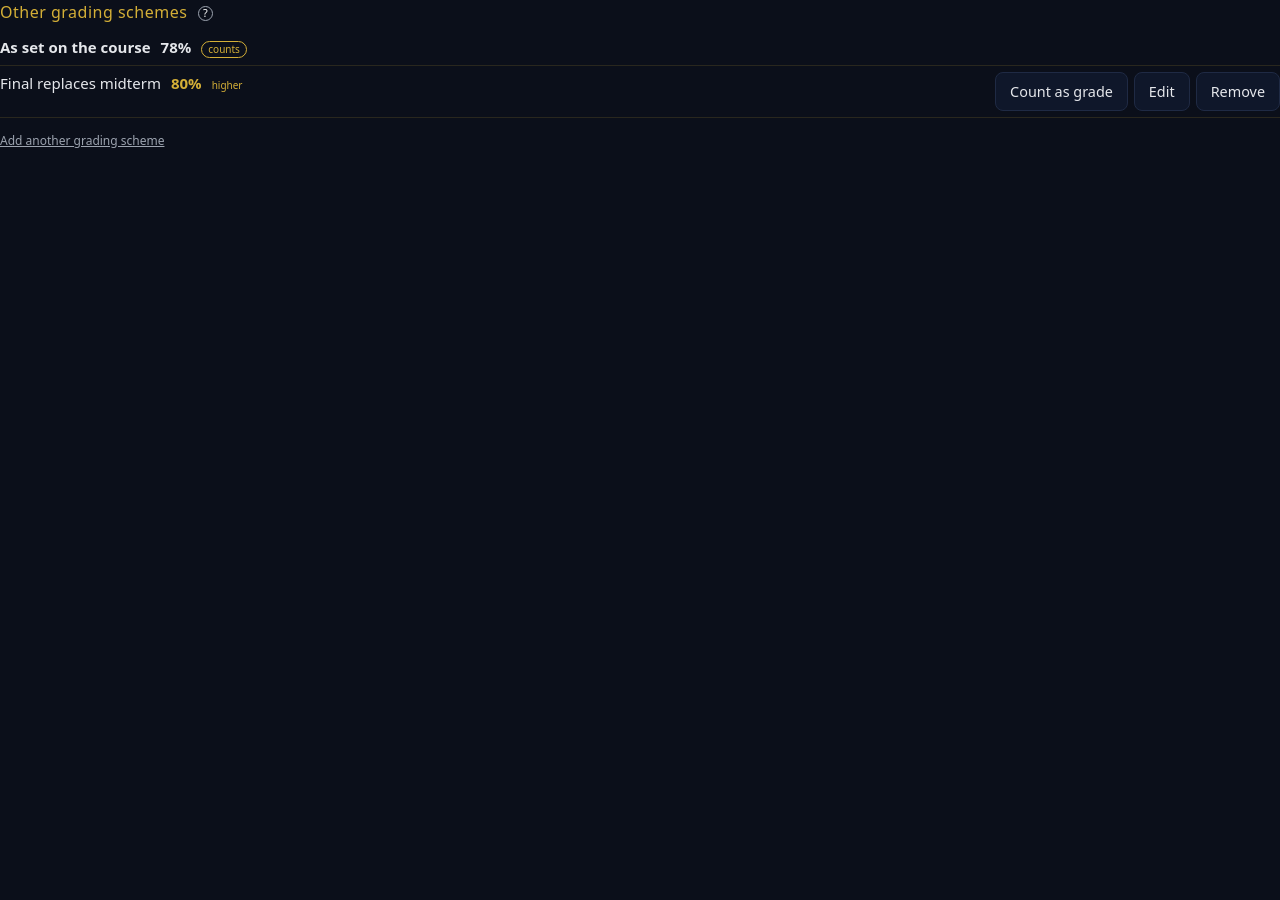
it: GradingSchemes › says why a scheme couldn't be saved
Step 1. Click the button "Add another grading scheme" → [82, 141], box [0,132,164,150]
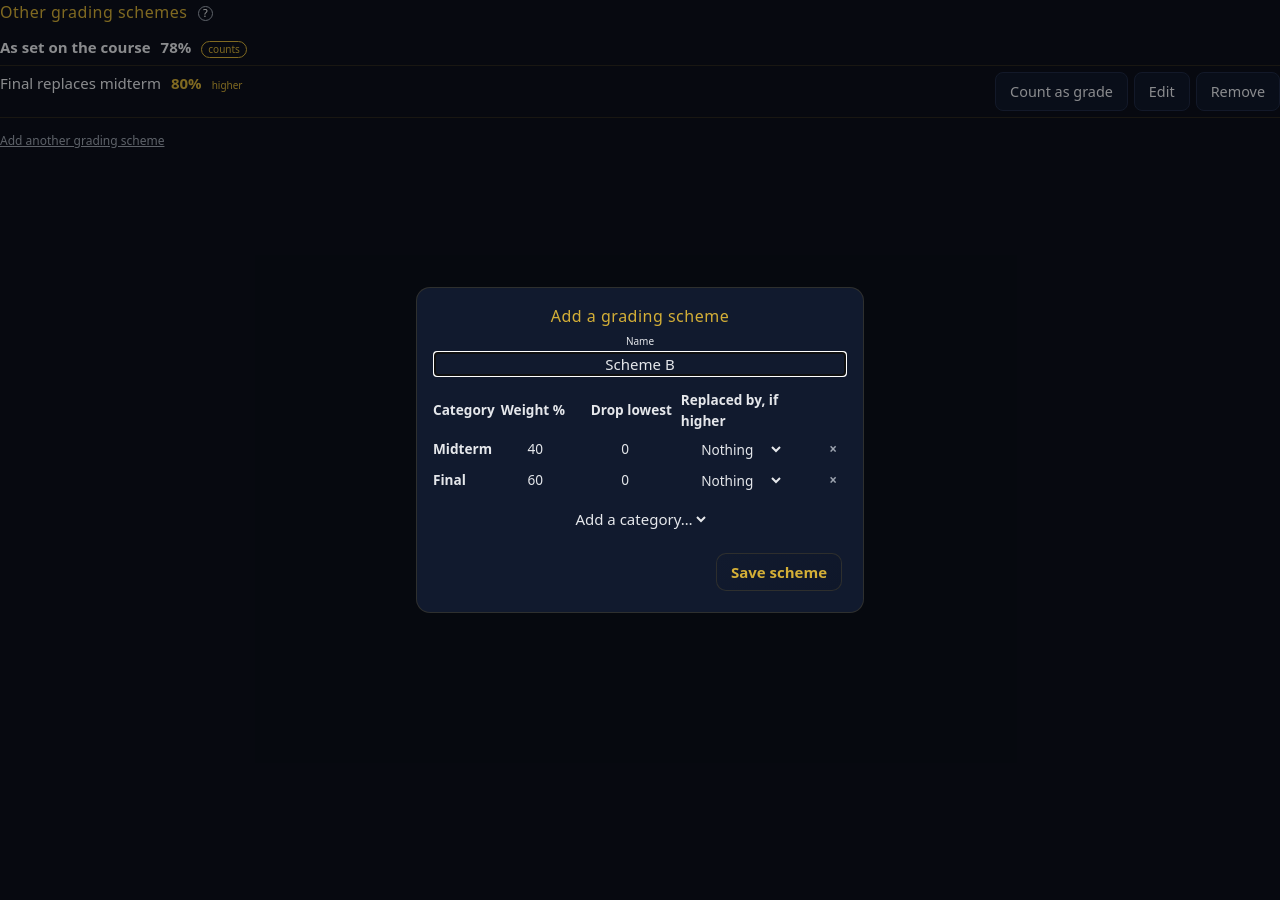
Step 2. Click the button "Save scheme" → [779, 572], box [716,553,842,591]
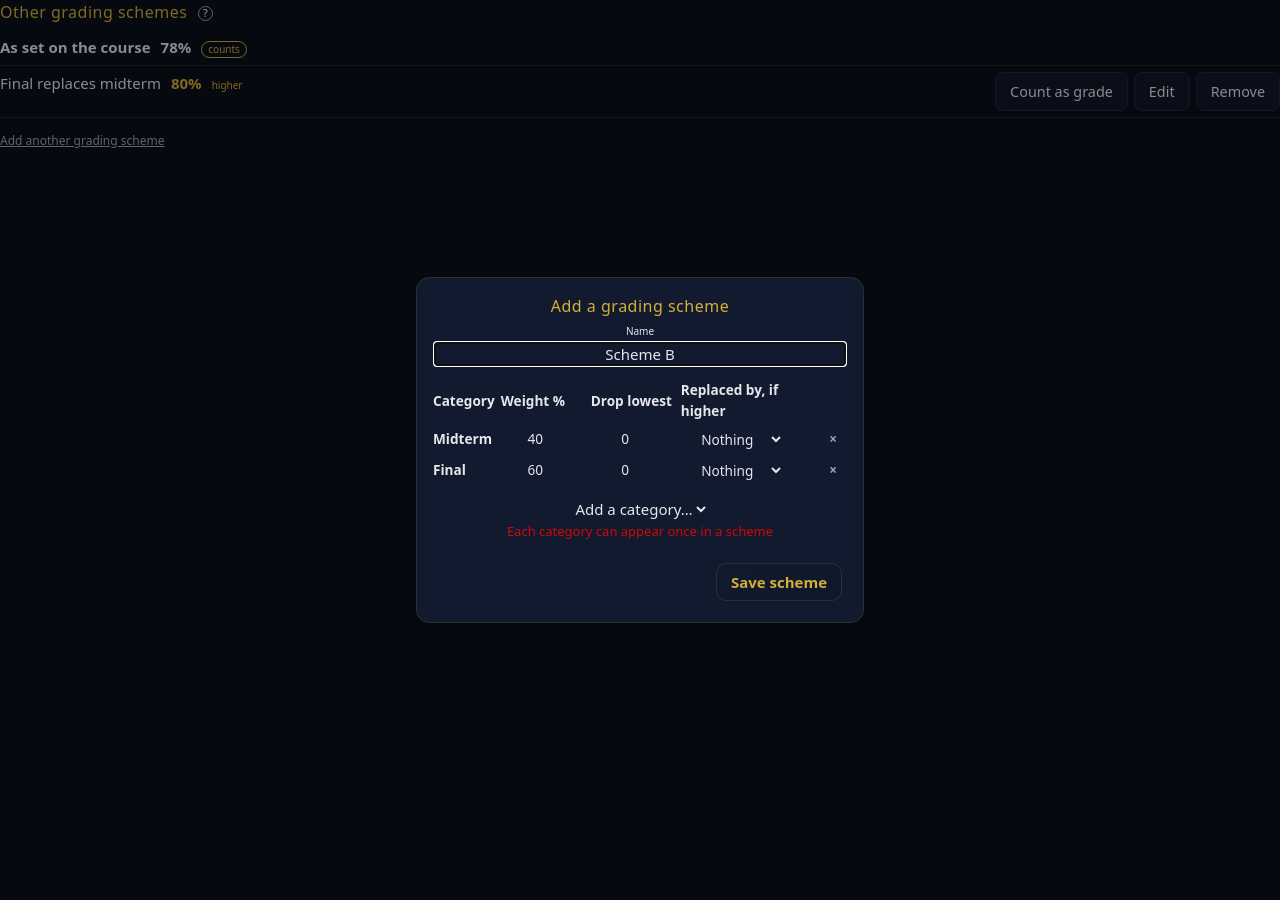
Check: the message reads "Each category can appear once in a scheme", box [507,522,773,540]
